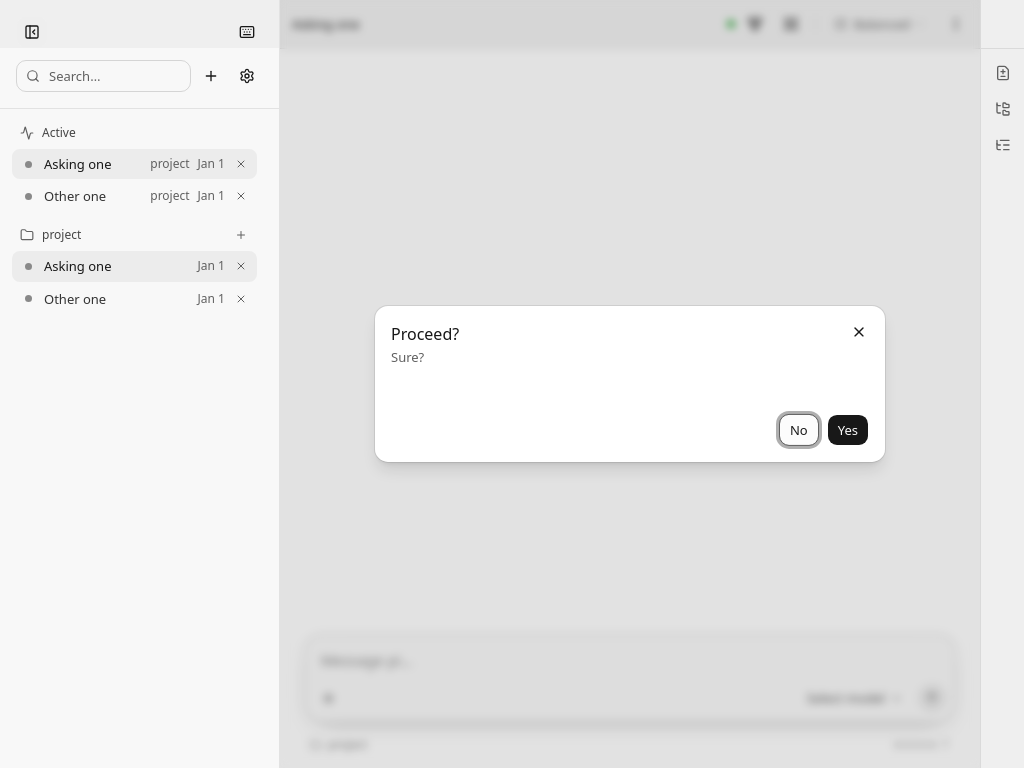
Test case: Sidebar › stays usable while a dialog is pending; the dialog shows again on return
This screenshot has width=1024, height=768.
Expected: the navigation bar named "Conversations" is shown, [0, 0, 279, 311]
Expected: the dialog with test id "dialog-confirm" is shown, [374, 305, 886, 463]
Click the link "Other one Jan 1".
click(75, 299)  # box [24, 290, 225, 308]
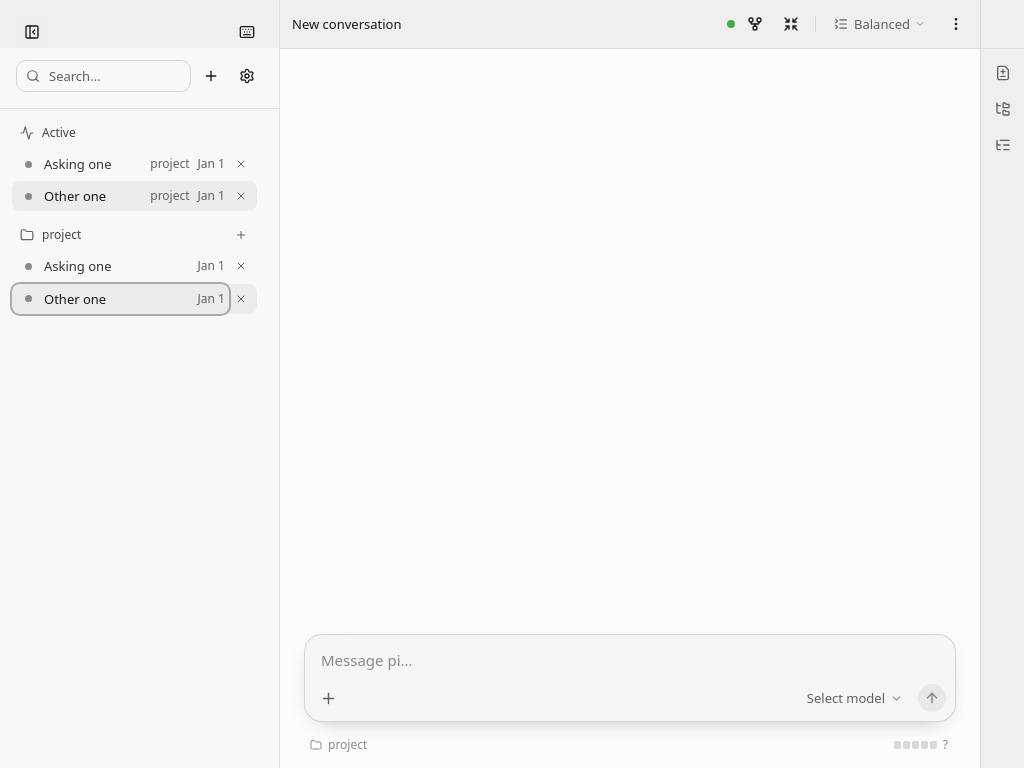
Now the dialog with test id "dialog-confirm" is gone
Click the link "Asking one Jan 1".
click(78, 266)  # box [24, 257, 225, 275]
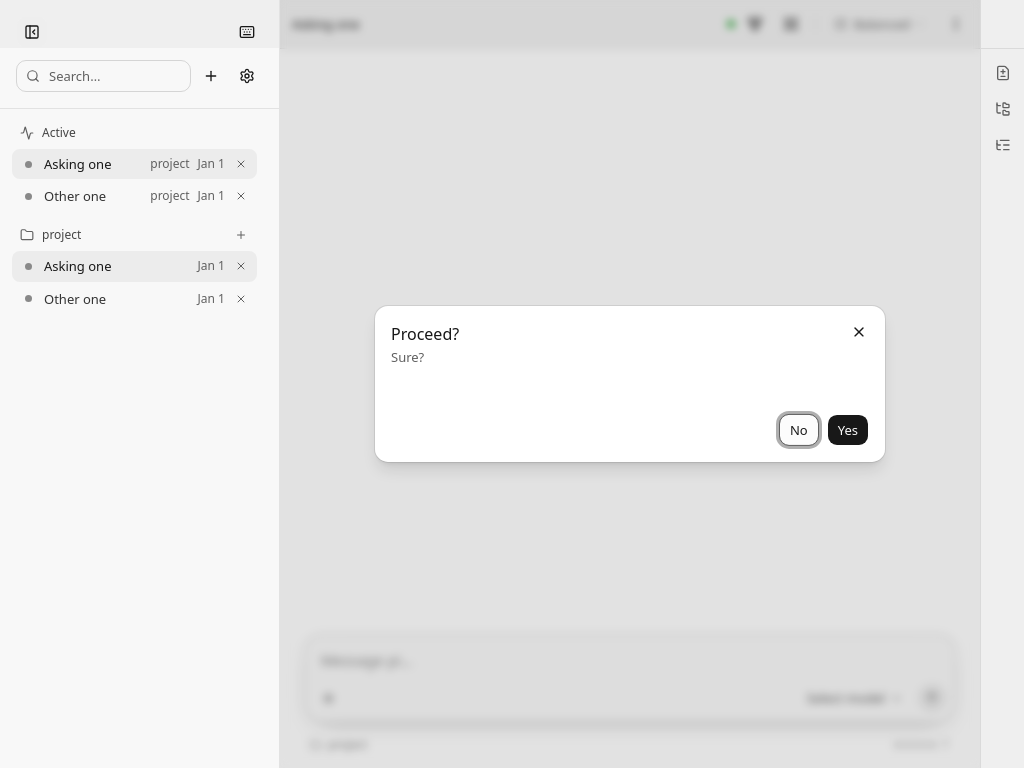
Now the dialog with test id "dialog-confirm" is shown, box [374, 305, 886, 463]
